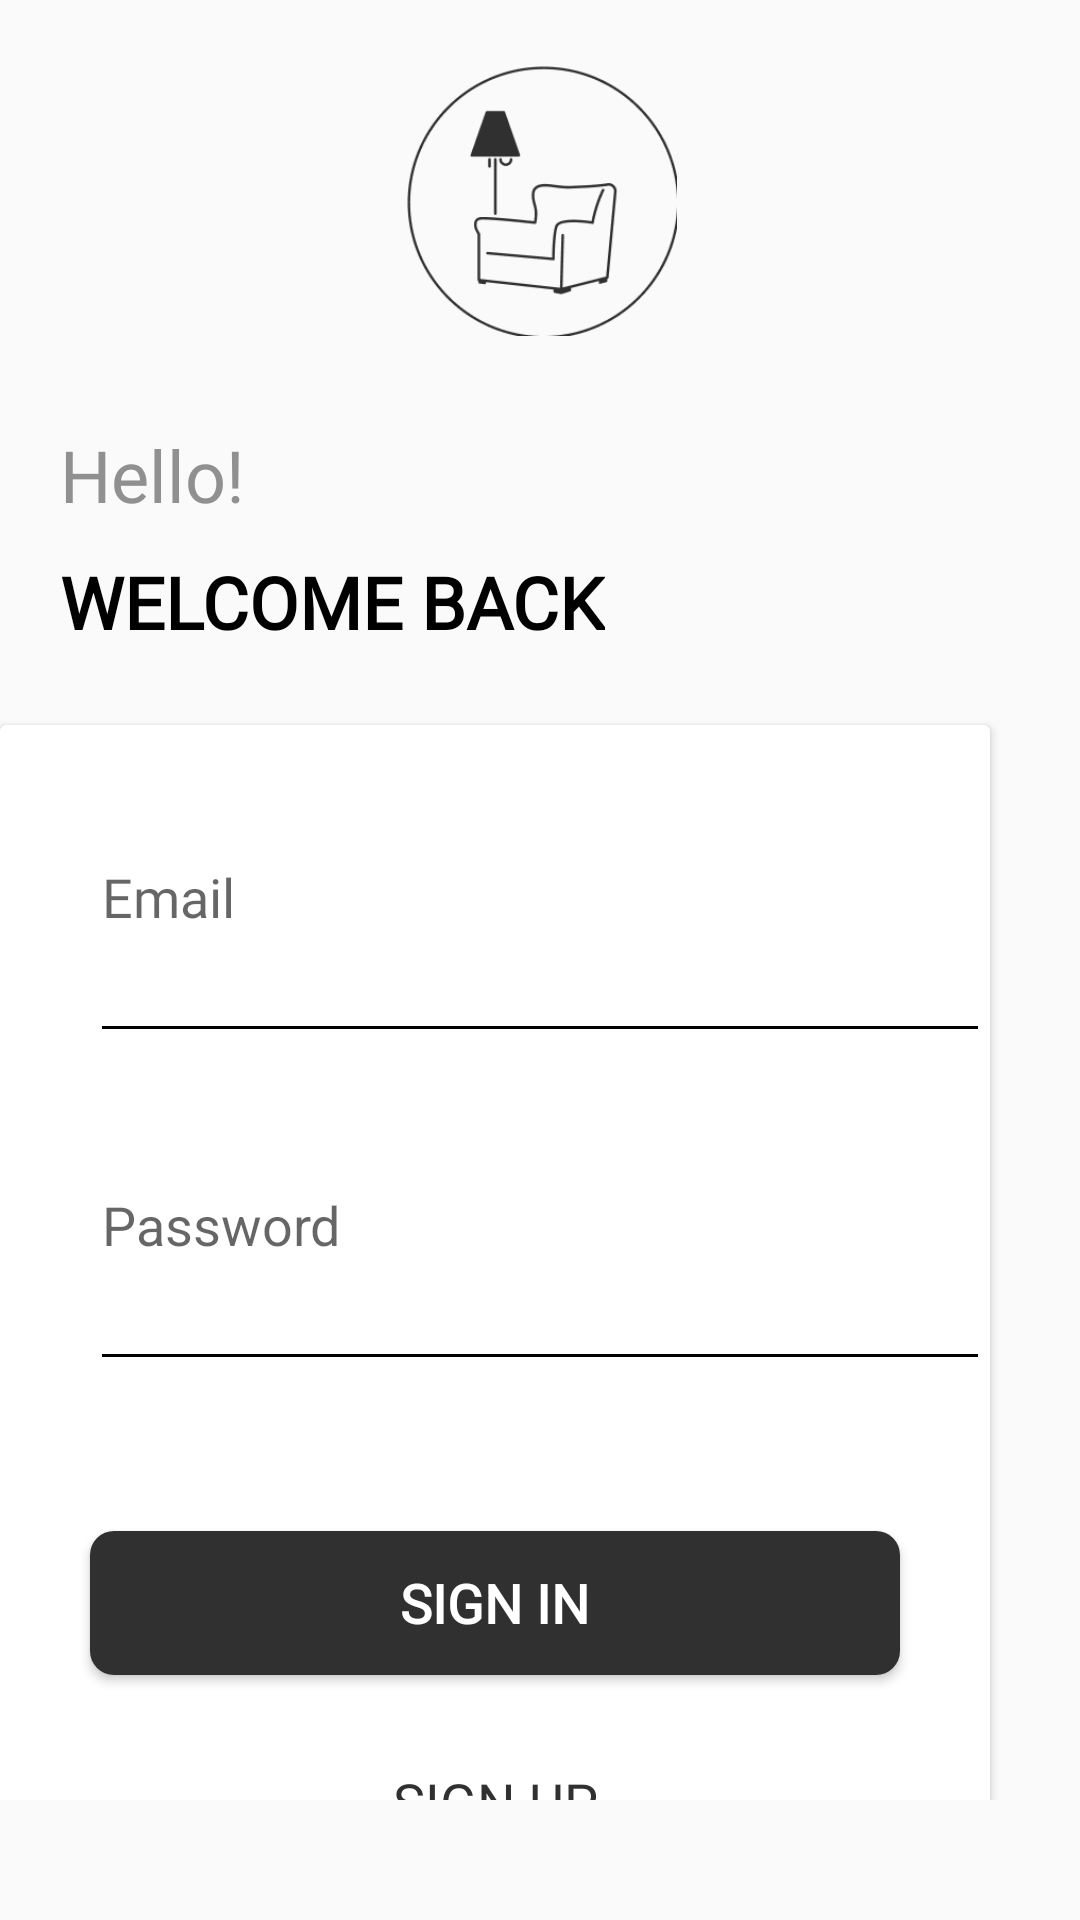

Named icons in this screenshot (1080 × 1920) and their centers, point (x, y):
sofa: point (542, 201)
